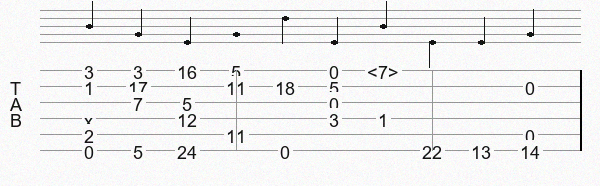0: (84, 142, 98, 159), (280, 142, 294, 159), (329, 94, 343, 111), (329, 62, 343, 79), (525, 126, 539, 143), (525, 78, 539, 95)
1: (84, 78, 98, 95), (378, 110, 392, 127)
11: (226, 126, 250, 143), (226, 78, 250, 95)
12: (177, 110, 201, 127)
13: (471, 142, 495, 159)
14: (520, 142, 544, 159)
16: (177, 62, 201, 79)
17: (128, 78, 152, 95)
18: (275, 78, 299, 95)
2: (84, 126, 98, 143)
22: (422, 142, 446, 159)
24: (177, 142, 201, 159)
3: (84, 62, 98, 79), (133, 62, 147, 79), (329, 110, 343, 127)
5: (133, 142, 147, 159), (182, 94, 196, 111), (231, 62, 245, 79), (329, 78, 343, 95)
7: (133, 94, 147, 111)
harmonic: (367, 62, 403, 79)
x: (84, 111, 97, 125)
